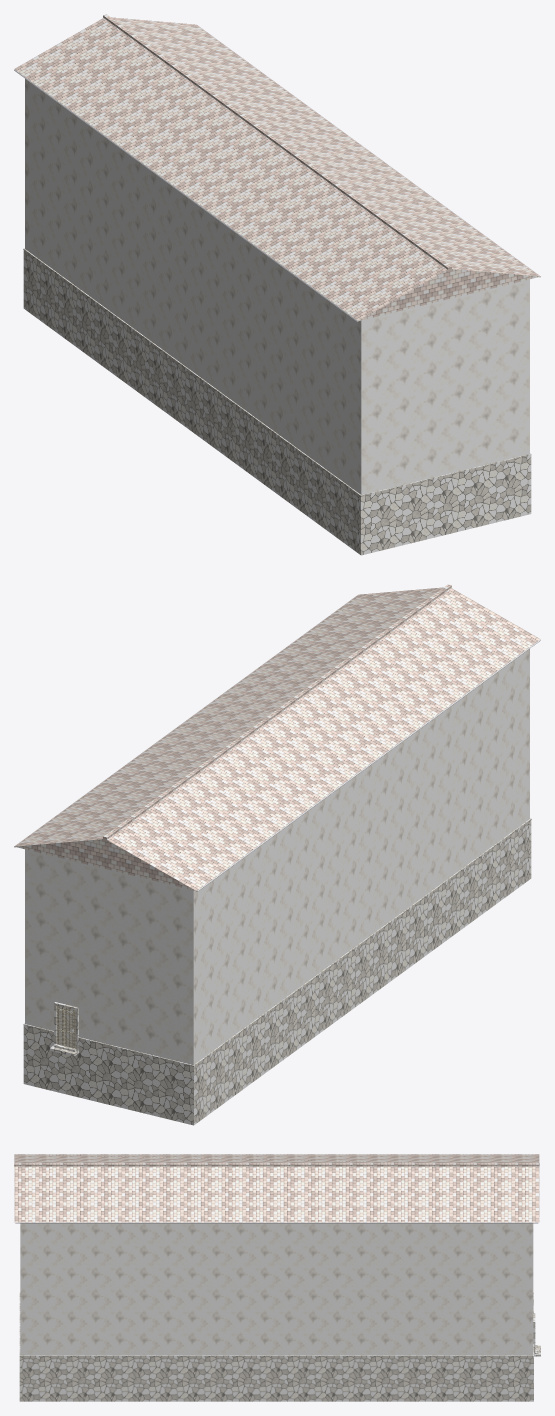
3 renders of one model, top to bottom at view 1: azimuth 30°, elevation 25°; view 2: azimuth 150°, elevation 25°; view 3: azimuth 270°, elevation 25°, orthographic. The views are drawn at different scales.
Parts seen in each view (by area): view 1: b1088806821; view 2: b1088806821; view 3: b1088806821.
Part boxes in pixels (x1,y1,x2,y2): b1088806821: [14, 14, 540, 555]; b1088806821: [14, 584, 540, 1125]; b1088806821: [14, 1154, 540, 1401].
Size of the model in its own units: 9.38 by 13.18 by 30.56.
11 materials, 11 textured.
